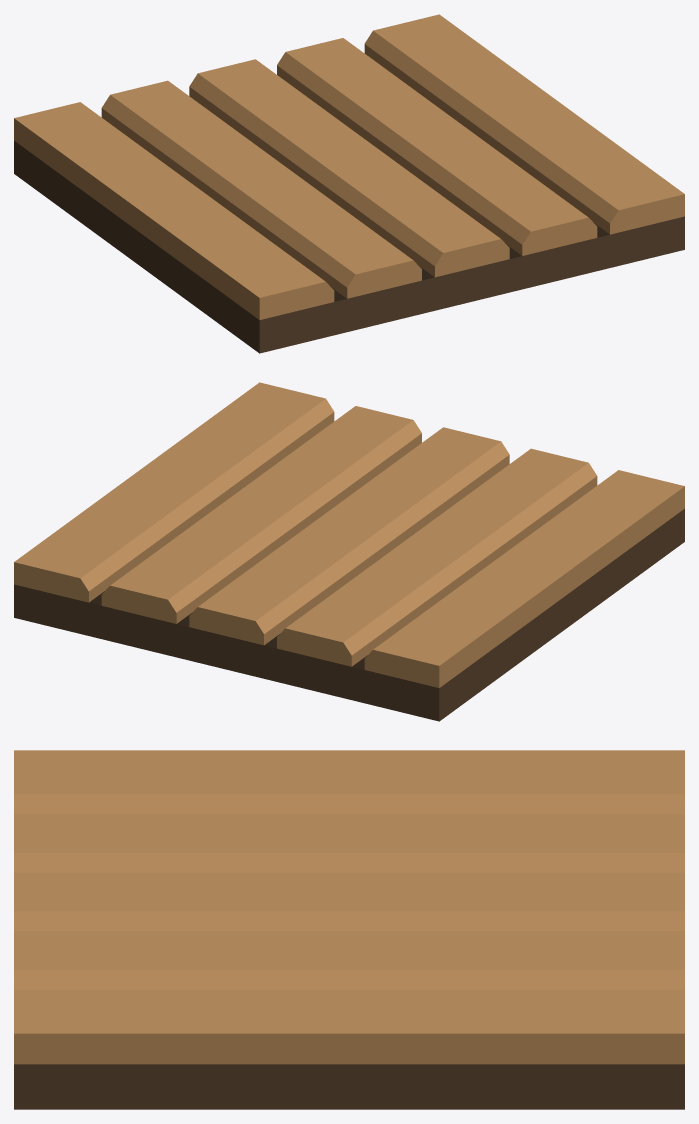
The model's file is timber-deck-tile-39324d.glb.
3 renders of one model, top to bottom at view 1: azimuth 30°, elevation 25°; view 2: azimuth 150°, elevation 25°; view 3: azimuth 270°, elevation 25°, orthographic. The views are drawn at different scales.
Visible parts, largest first — view 1: deck-slab; view 2: deck-slab; view 3: deck-slab.
Boxes of the visible parts, x1,y1,x2,y2 form: deck-slab: (14,14,684,353); deck-slab: (14,382,684,721); deck-slab: (14,750,684,1109).
Size of the model in its own units: 0.4 by 0.05 by 0.4.
